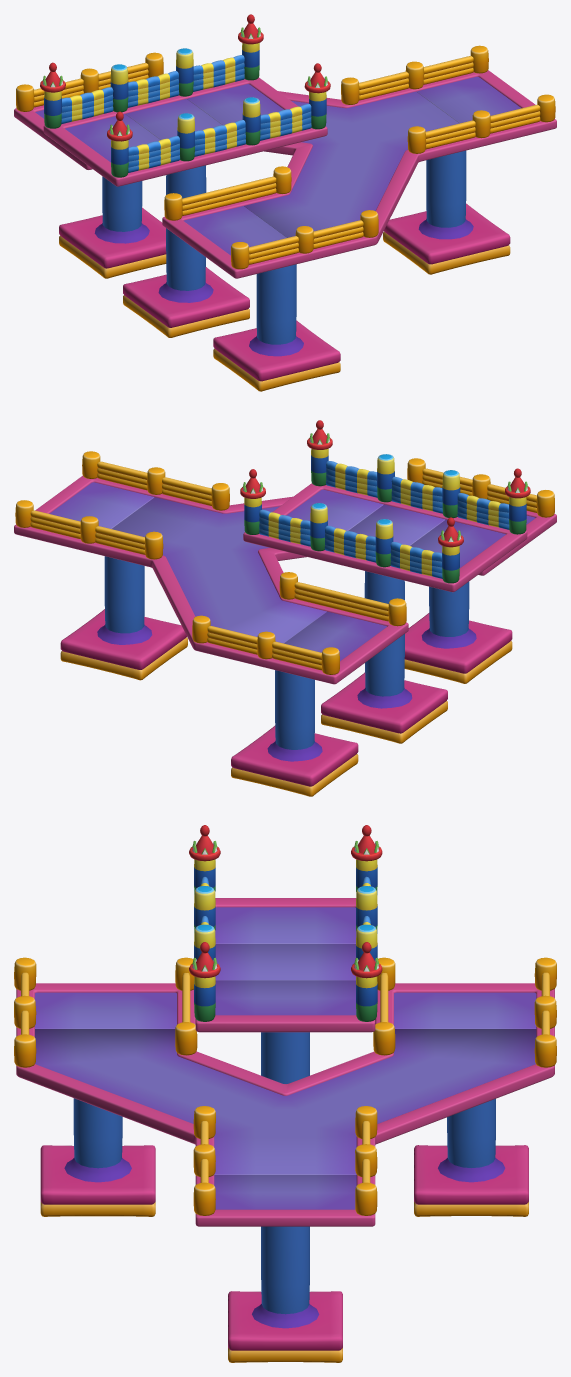
3 views of the same model, one above another, from view 1: azimuth 30°, elevation 25°; view 2: azimuth 150°, elevation 25°; view 3: azimuth 270°, elevation 25° (orthographic). The views are drawn at different scales.
Visible parts, largest first — view 1: Part3; view 2: Part3; view 3: Part3.
Part boxes in pixels (bbox=[...]): Part3: bbox=[14, 14, 556, 391]; Part3: bbox=[14, 420, 556, 796]; Part3: bbox=[14, 825, 556, 1362].
Bounding box in the file's own units: 43.39 × 23.2 × 37.8.
1 material, 1 textured.
